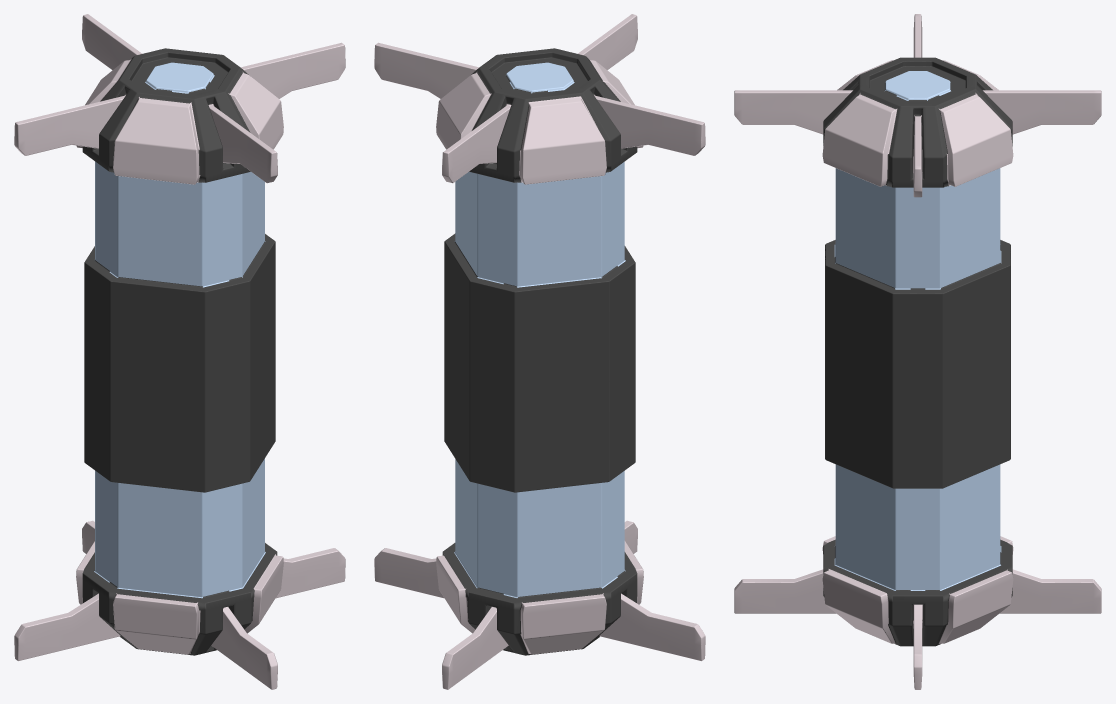
The model's file is Pickup.fbx.
3 views of the same model, side by side, from view 1: azimuth 30°, elevation 25°; view 2: azimuth 150°, elevation 25°; view 3: azimuth 270°, elevation 25° (orthographic). The views are drawn at different scales.
Parts seen in each view (by area): view 1: Pickup; view 2: Pickup; view 3: Pickup.
Boxes of the visible parts, left/top/right/bottom form: Pickup: left=14, top=14, right=345, bottom=689; Pickup: left=374, top=14, right=705, bottom=689; Pickup: left=734, top=14, right=1101, bottom=689.
Bounding box in the file's own units: 359 × 583 × 359.
